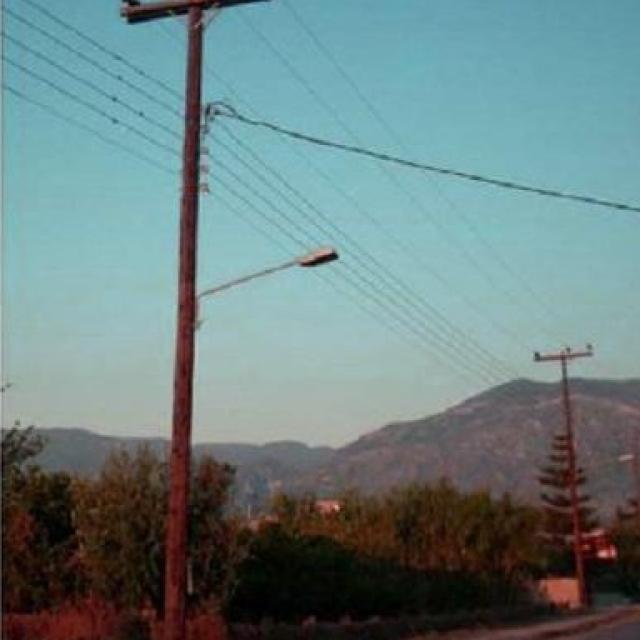non-critical vegetation: (108, 0, 283, 633), (530, 332, 608, 454)
